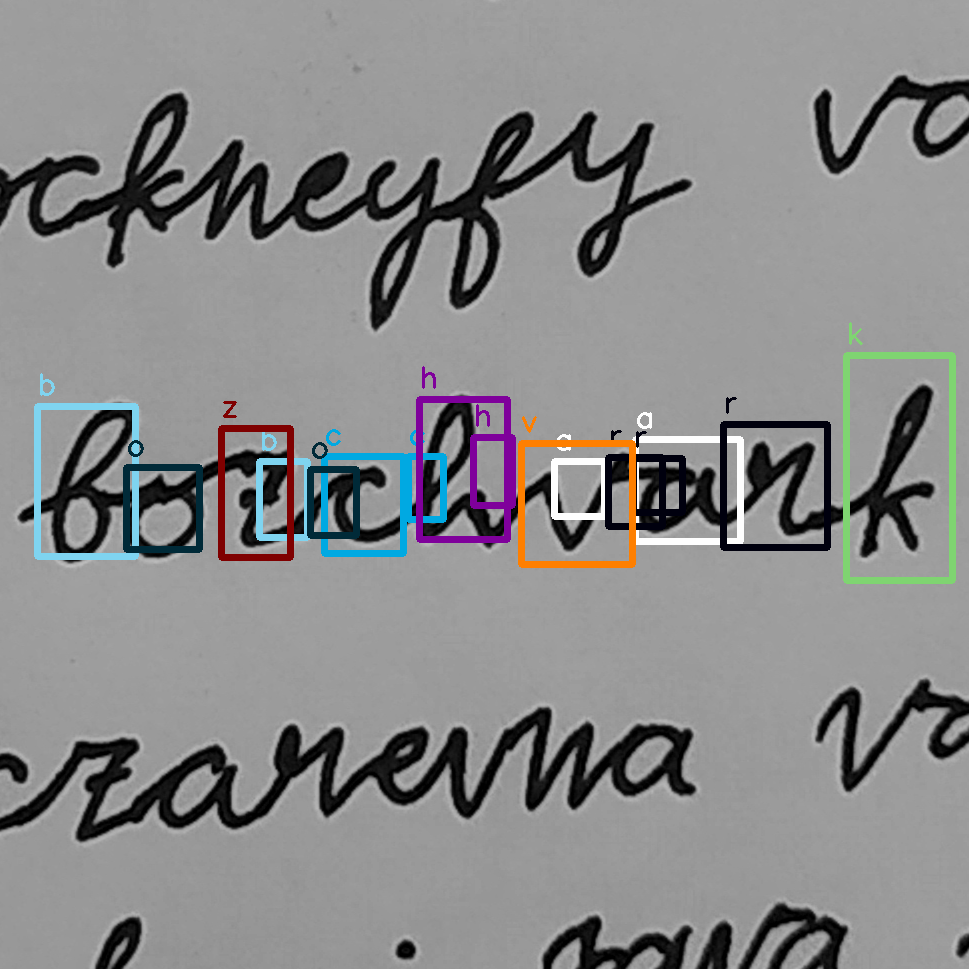a: (634, 458, 721, 539)
b: (46, 398, 139, 566)
c: (327, 461, 399, 549)
h: (412, 389, 505, 554)
k: (852, 379, 939, 560)
o: (120, 471, 209, 564)
r: (736, 435, 824, 542)
v: (528, 448, 630, 553)
z: (226, 442, 304, 551)
